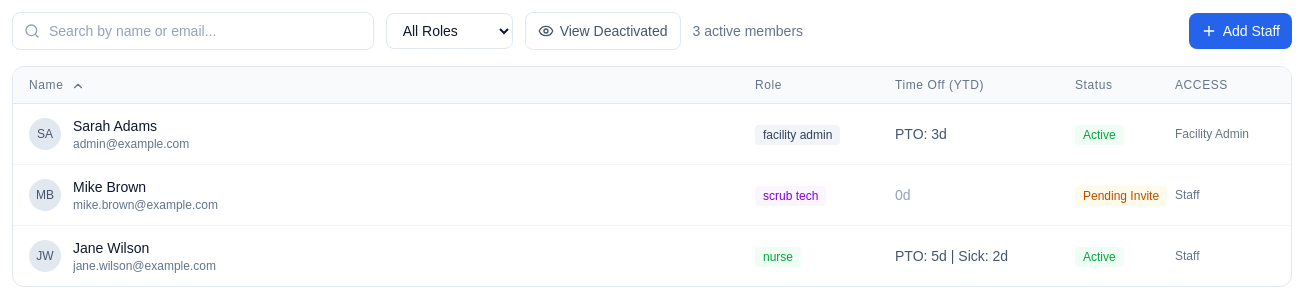
Test: StaffDirectoryTab › search filtering › filters by email
Type "admin@" into the field with placeholder "Search by name or email...". click: (193, 31)
box: [12,12,374,50]
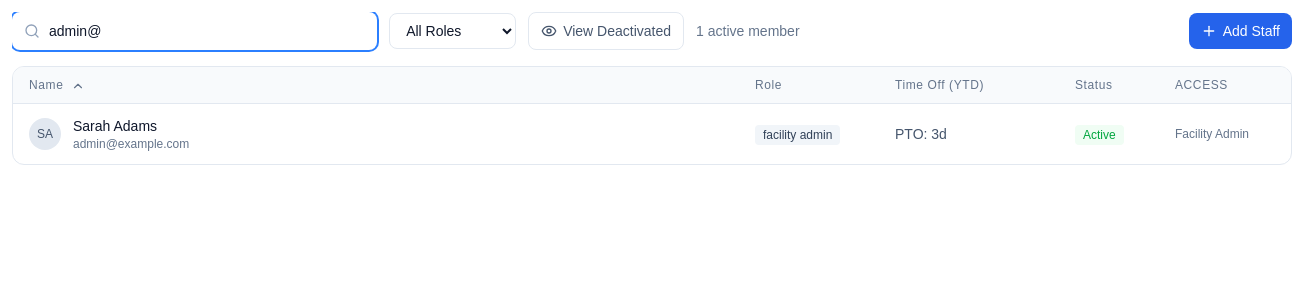
Expected: the text "Sarah Adams" is shown, [73,118,157,134]
Expected: the text "Jane Wilson" is gone
